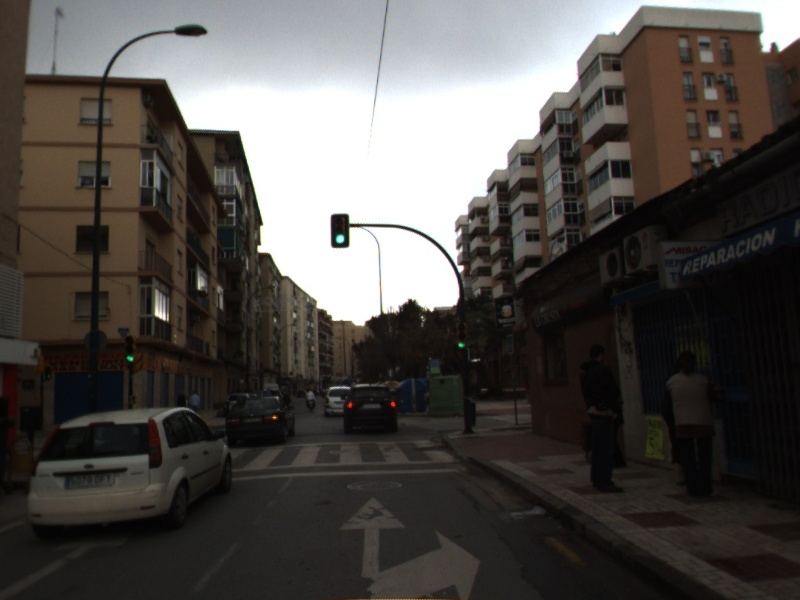STRAIGHT: (1, 525, 135, 600)
STRAIGHT_RIGHT: (336, 494, 483, 600)
